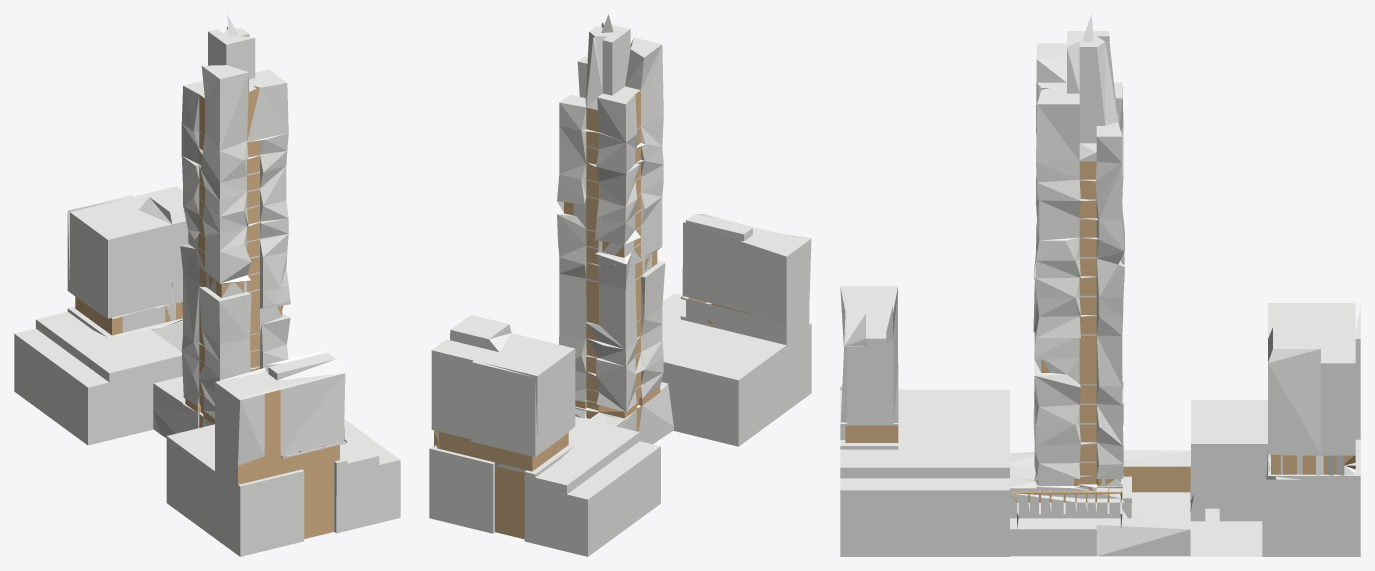
The model's file is nest-one-low.glb.
3 views of the same model, side by side, from view 1: azimuth 30°, elevation 25°; view 2: azimuth 150°, elevation 25°; view 3: azimuth 270°, elevation 25° (orthographic). The views are drawn at different scales.
Parts seen in each view (by area): view 1: Cube_2__0; view 2: Cube_2__0; view 3: Cube_2__0.
Boxes of the visible parts, x1,y1,x2,y2 form: Cube_2__0: (14,14,400,556); Cube_2__0: (429,14,811,556); Cube_2__0: (840,14,1360,556).
Size of the model in its own units: 5 by 13.11 by 12.2.
Materials: 1 (1 with a texture image).
